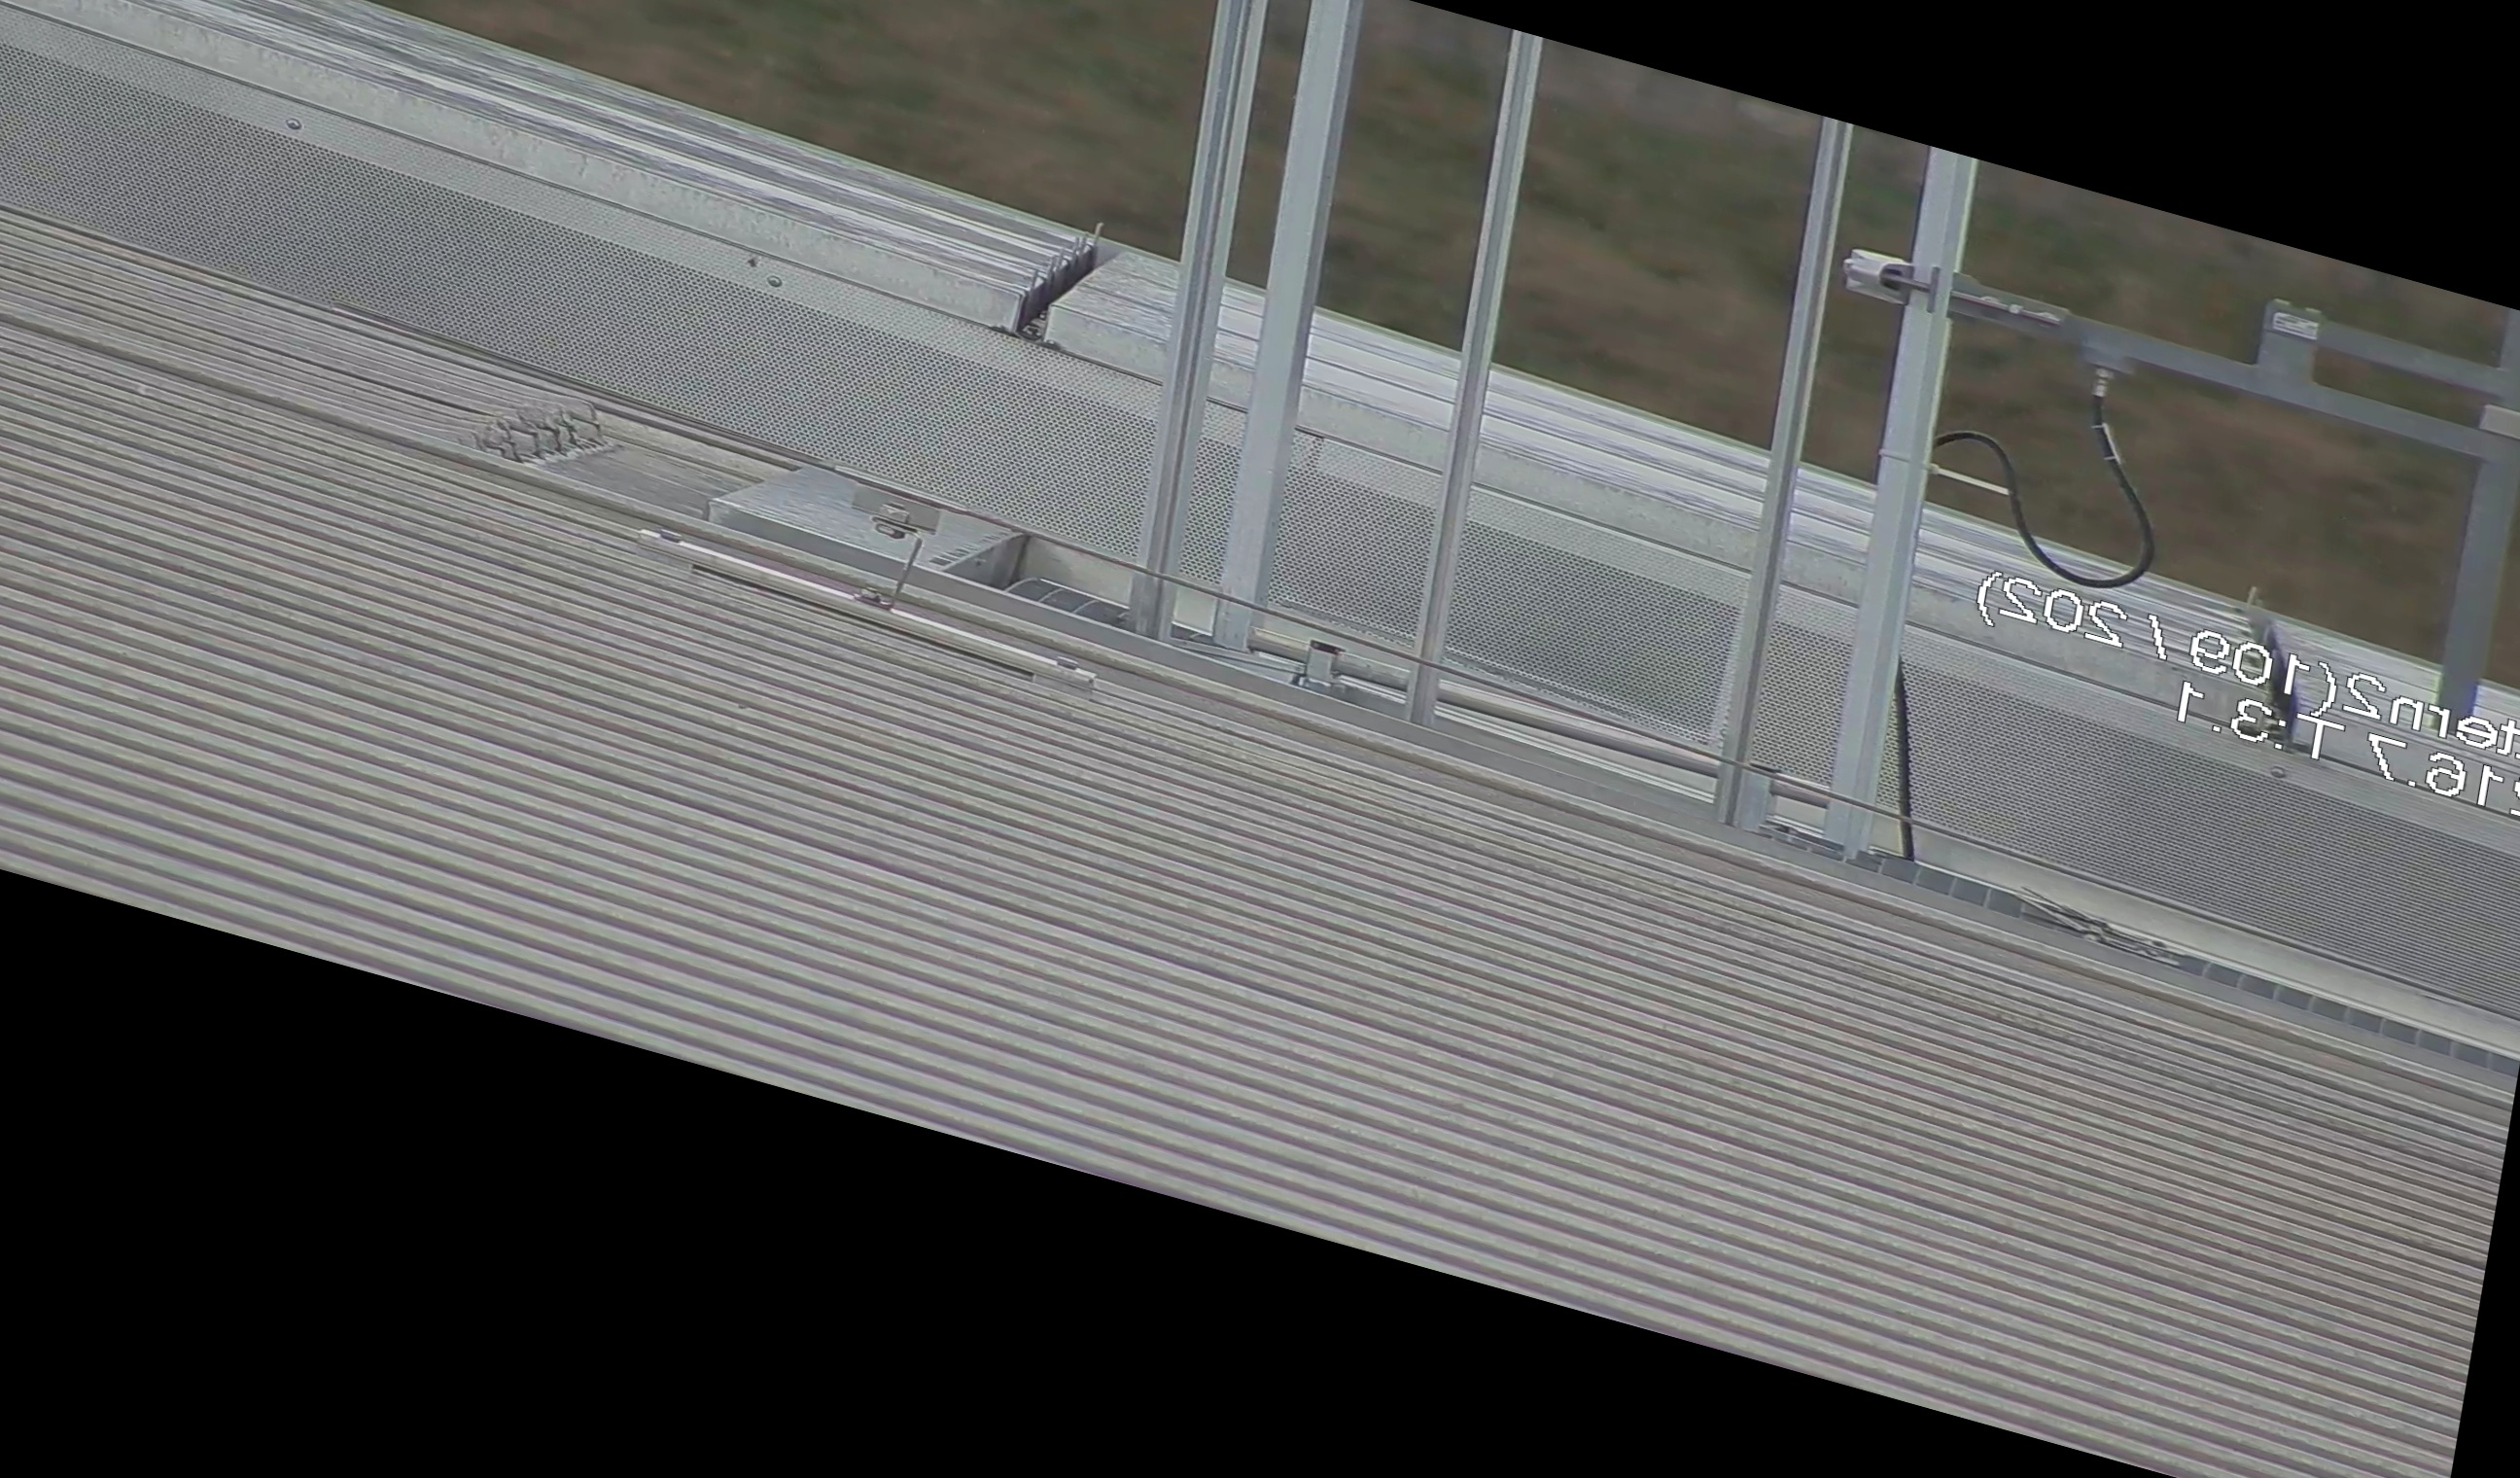Other: (990, 190, 1140, 371)
